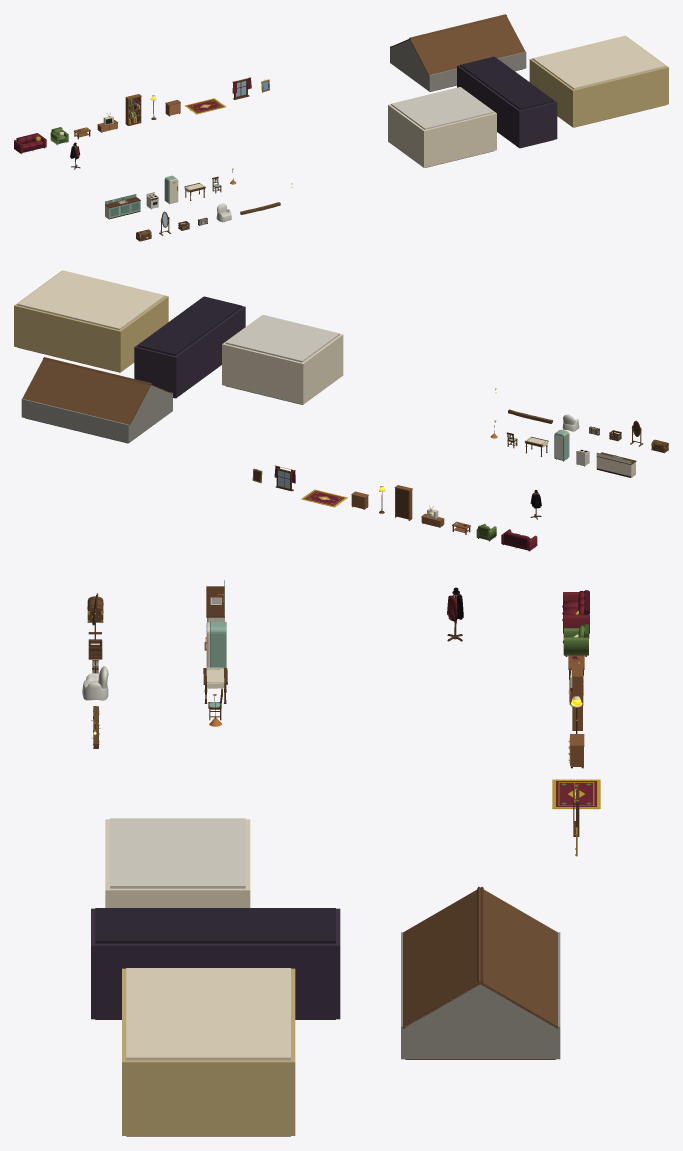
File: assetpackspookhuis.fbx
3 renders of one model, top to bottom at view 1: azimuth 30°, elevation 25°; view 2: azimuth 150°, elevation 25°; view 3: azimuth 270°, elevation 25°, orthographic. The views are drawn at different scales.
Visible parts, largest first — view 1: Dak noord, Plafond, Muur noord, Muur noord.002, Plafond.002, Plafond.001, Muur oost.001, Muur noord.001, Muur oost.002, Muur oost, Gevel oost, Knieschot noord (+3 smaller); view 2: Dak zuid, Plafond, Muur zuid, Muur zuid.002, Plafond.002, Plafond.001, Muur oost.001, Knieschot zuid, Muur oost.002, Muur zuid.001, Muur oost, Gevel oost (+5 smaller); view 3: Plafond, Muur west, Plafond.002, Muur west.001, Plafond.001, Gevel west, Dak zuid, Dak noord, Muur west.002, carpet1, Muur noord, Muur zuid.
Boxes of the visible parts, x1,y1,x2,y2 form: Dak noord: (409, 14, 525, 74); Plafond: (532, 35, 665, 89); Muur noord: (572, 66, 668, 127); Muur noord.002: (423, 112, 496, 167); Plafond.002: (391, 87, 493, 129); Plafond.001: (460, 56, 553, 110); Muur oost.001: (458, 66, 519, 146); Muur noord.001: (518, 101, 557, 148); Muur oost.002: (389, 105, 424, 166); Muur oost: (530, 59, 573, 126); Gevel oost: (391, 40, 428, 90); Knieschot noord: (428, 51, 526, 91); Dak zuid: (22, 357, 151, 425); Plafond: (17, 270, 165, 330); Muur zuid: (14, 305, 121, 372); Muur zuid.002: (222, 343, 304, 404); Plafond.002: (225, 315, 339, 362); Plafond.001: (137, 296, 241, 355); Muur oost.001: (176, 307, 244, 397); Knieschot zuid: (21, 398, 129, 443); Muur oost.002: (302, 335, 341, 403); Muur zuid.001: (134, 346, 177, 398); Muur oost: (120, 297, 167, 371); Gevel oost: (130, 385, 171, 442); Plafond: (126, 968, 290, 1060); Muur west: (126, 1060, 290, 1135); Plafond.002: (110, 818, 245, 888); Muur west.001: (95, 943, 335, 1019); Plafond.001: (95, 908, 335, 943); Gevel west: (405, 983, 555, 1059); Dak zuid: (477, 886, 558, 1028); Dak noord: (402, 886, 483, 1028); Muur west.002: (110, 888, 245, 907); carpet1: (552, 779, 600, 809); Muur noord: (122, 968, 126, 1135); Muur zuid: (291, 968, 295, 1135).
Bounding box in the file's own units: 4133 × 318 × 1723.
